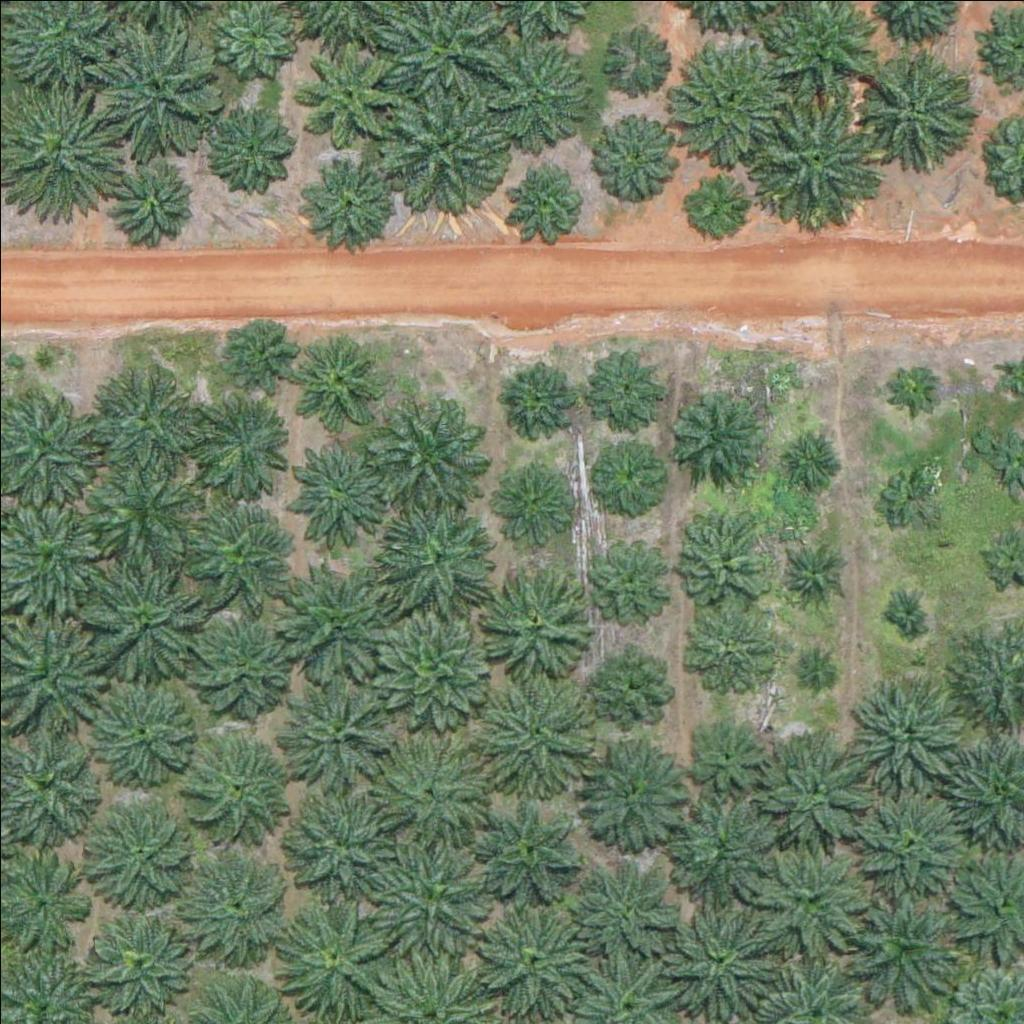Kelapa_Sawit: (89, 23, 214, 149), (382, 82, 507, 208), (752, 87, 877, 213), (836, 883, 961, 1009), (664, 44, 777, 158), (853, 787, 966, 901), (475, 40, 588, 153), (87, 356, 200, 469), (85, 459, 198, 572), (81, 571, 194, 684), (182, 850, 295, 963), (183, 505, 296, 618), (273, 900, 386, 1013), (283, 795, 396, 908), (286, 677, 399, 790), (373, 403, 486, 516), (483, 571, 596, 684), (580, 731, 693, 844), (662, 903, 775, 1016), (676, 802, 789, 915), (855, 679, 968, 792), (763, 741, 875, 855), (81, 687, 193, 800), (85, 800, 197, 913), (278, 573, 390, 686), (282, 427, 394, 540), (375, 846, 487, 959), (377, 737, 489, 850), (379, 618, 491, 731), (383, 503, 495, 616), (481, 681, 593, 794), (752, 844, 864, 957), (477, 908, 589, 1021), (294, 38, 394, 139), (296, 149, 396, 250), (182, 743, 282, 844), (191, 619, 291, 720), (190, 397, 290, 498), (479, 796, 579, 897), (670, 384, 770, 485), (864, 54, 964, 154), (88, 914, 188, 1014), (592, 107, 680, 196), (298, 340, 386, 428), (687, 606, 775, 694), (679, 512, 767, 600), (501, 154, 588, 242), (494, 459, 581, 547), (583, 862, 670, 950), (592, 648, 667, 724), (603, 15, 678, 91), (114, 157, 189, 233), (213, 109, 288, 185), (498, 355, 573, 431), (590, 533, 665, 609), (587, 351, 662, 427), (694, 715, 769, 791), (602, 441, 665, 504), (778, 423, 841, 486), (681, 176, 744, 239), (883, 468, 946, 531), (228, 324, 291, 387), (890, 358, 940, 409), (788, 551, 838, 601), (792, 652, 830, 690), (888, 590, 925, 628)
